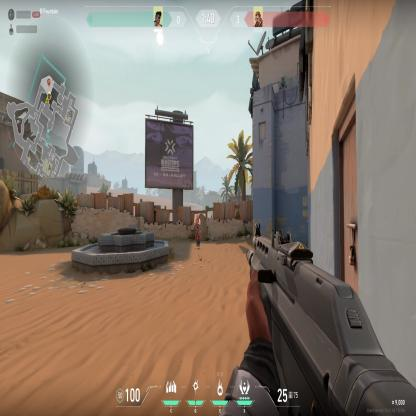enemy: (194, 214, 201, 250)
